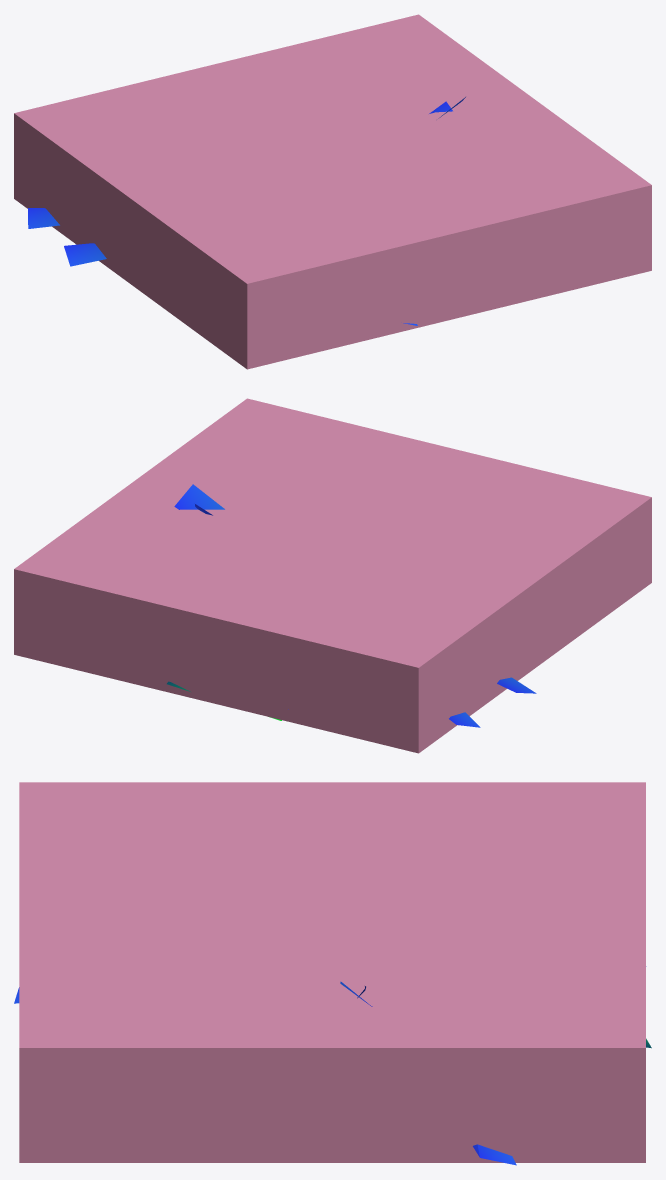
Rendered from vine_bush_wide.dae.
3 renders of one model, top to bottom at view 1: azimuth 30°, elevation 25°; view 2: azimuth 150°, elevation 25°; view 3: azimuth 270°, elevation 25°, orthographic. The views are drawn at different scales.
Parts seen in each view (by area): view 1: Untitled, tree_oak_bush_a90; view 2: Untitled, tree_oak_bush_a90, tree_oak_bush_a250; view 3: Untitled.
Boxes of the visible parts, x1,y1,x2,y2 form: Untitled: (14, 14, 651, 369); tree_oak_bush_a90: (28, 101, 452, 266); Untitled: (14, 398, 651, 753); tree_oak_bush_a90: (167, 504, 536, 727); tree_oak_bush_a250: (174, 484, 288, 709); Untitled: (19, 782, 645, 1162).
Bounding box in the file's own units: 3.91 × 3.54 × 0.9221.
